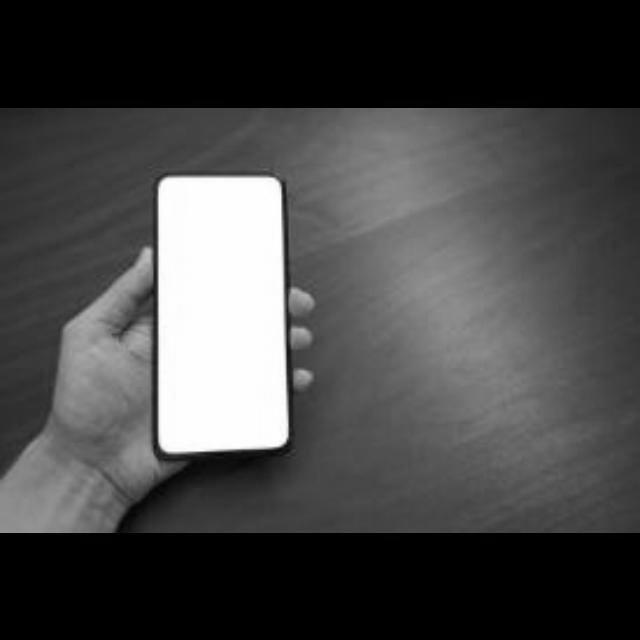fake: (116, 160, 328, 469)
